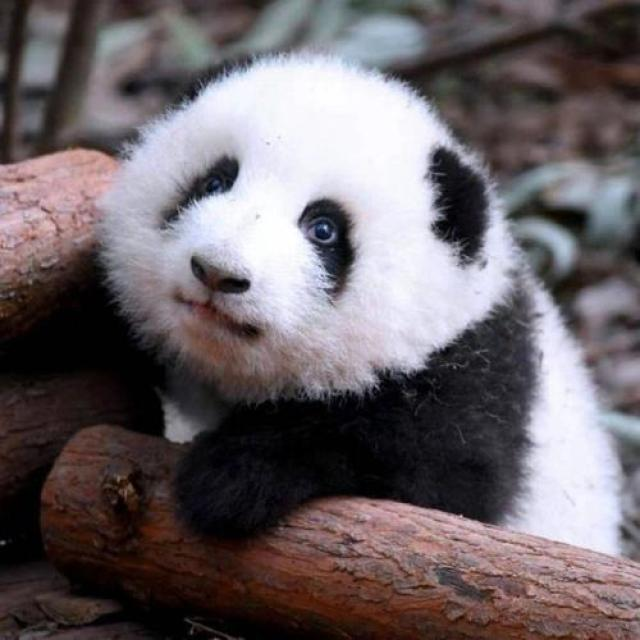panda: (65, 22, 640, 613)
